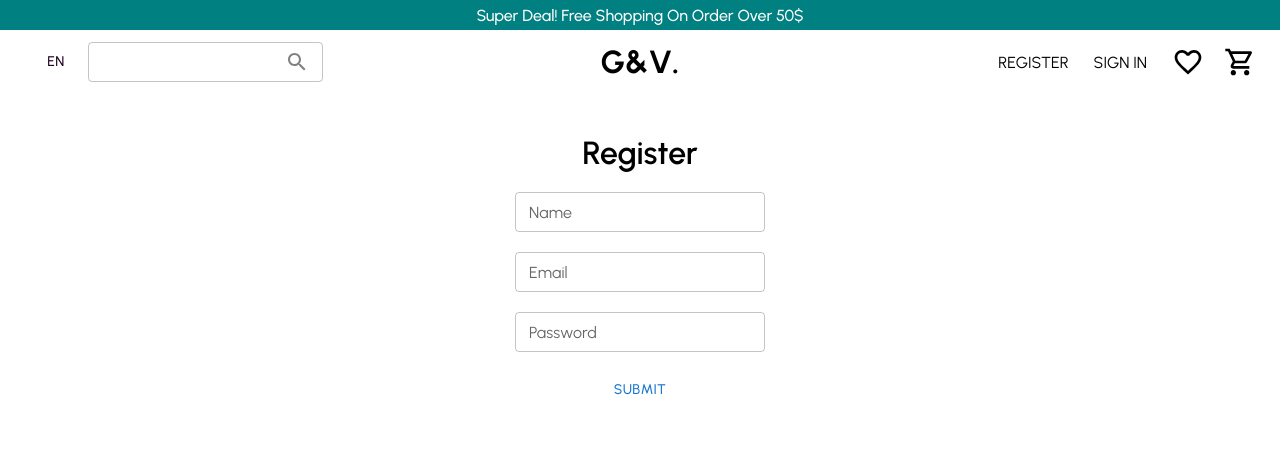
Schemas validators should display error messages for name, email and password fields › password schema error
Type "lol33" into the element with test id "name-input" at (640, 212), box [515,192,765,232]
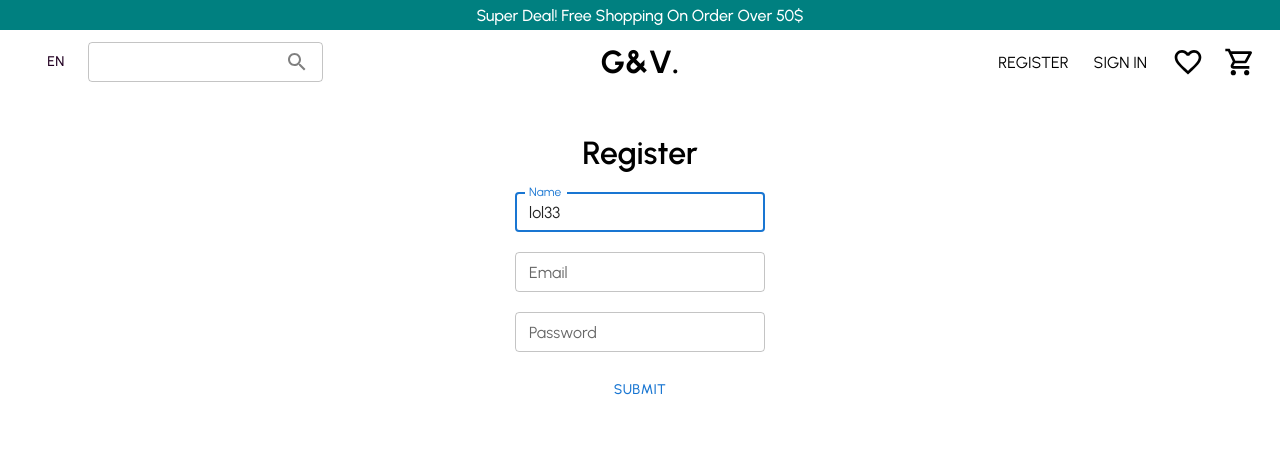
Type "test@gmail.com" into the element with test id "email-input" at (640, 272), box [515,252,765,292]
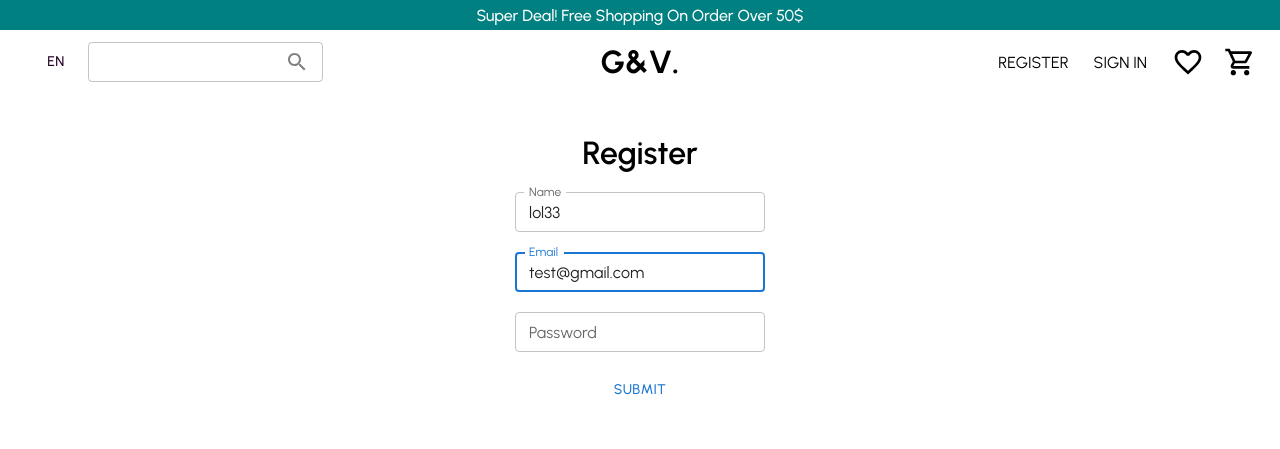
Type "lacontras" into the element with test id "password-input" at (640, 332), box [515,312,765,352]
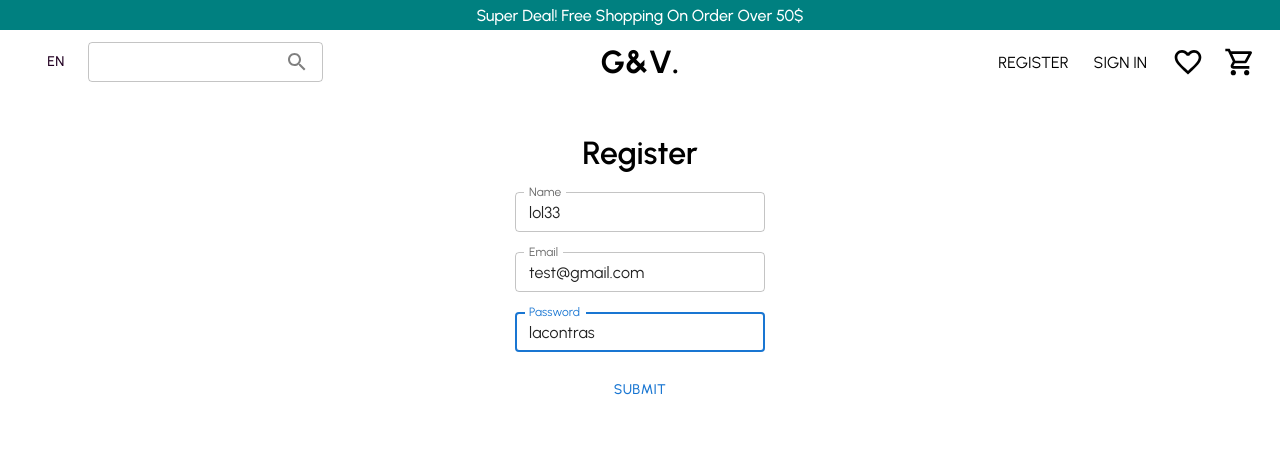
Click the button with id "send-login" at (641, 391), box [606,372,675,409]
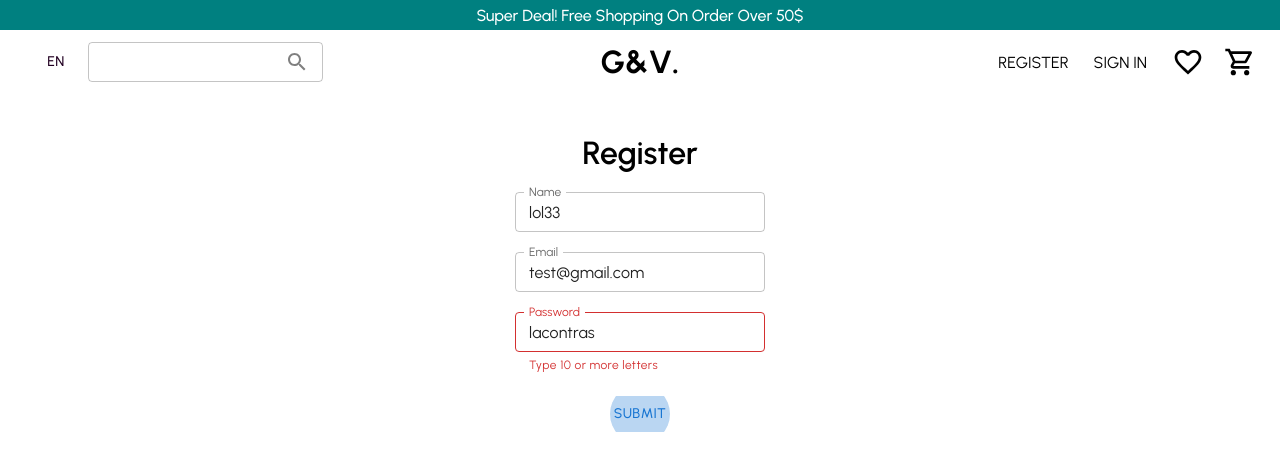
Expected: the text "Type 10 or more letters" is shown, [529,358,658,372]
